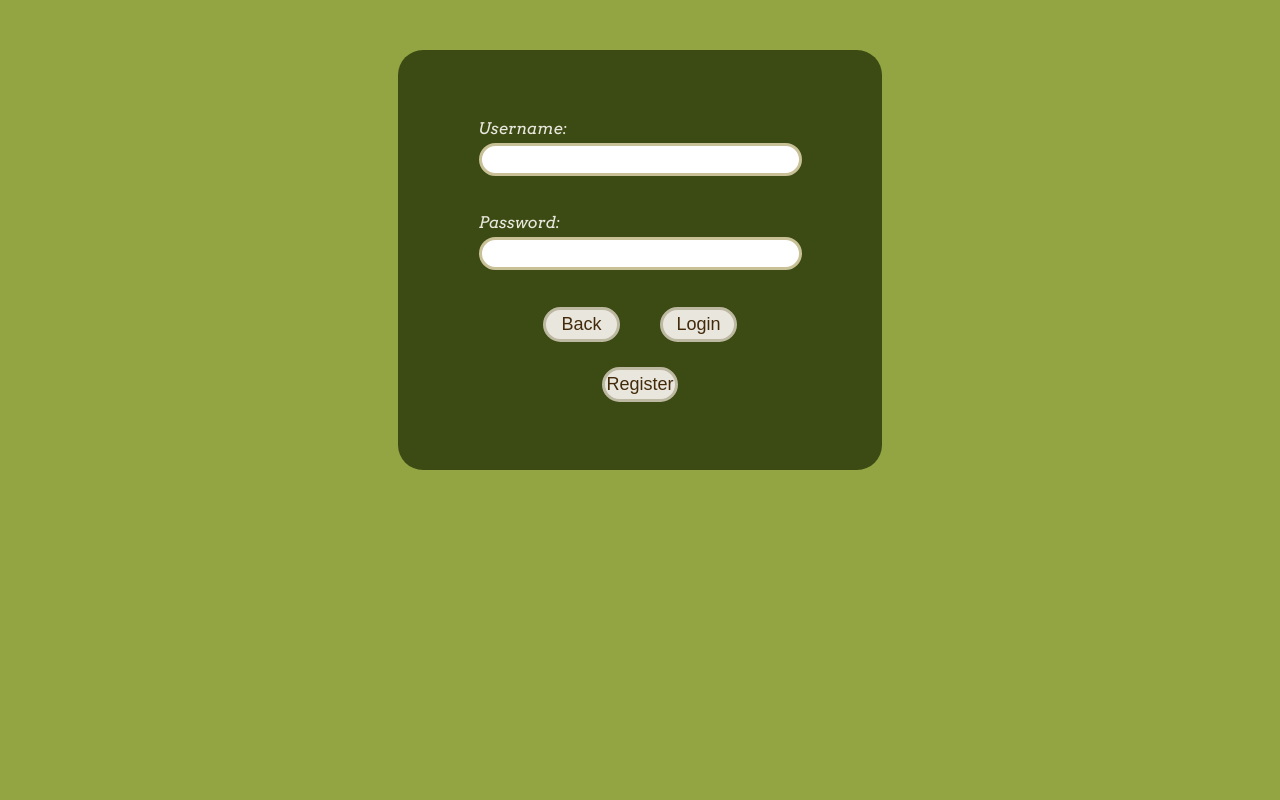
Test: Login Page User Flow › should not be able to create a new account if not all fields are filled in
This screenshot has width=1280, height=800.
Click the button "Register" at (641, 385), box [602,367,679,402]
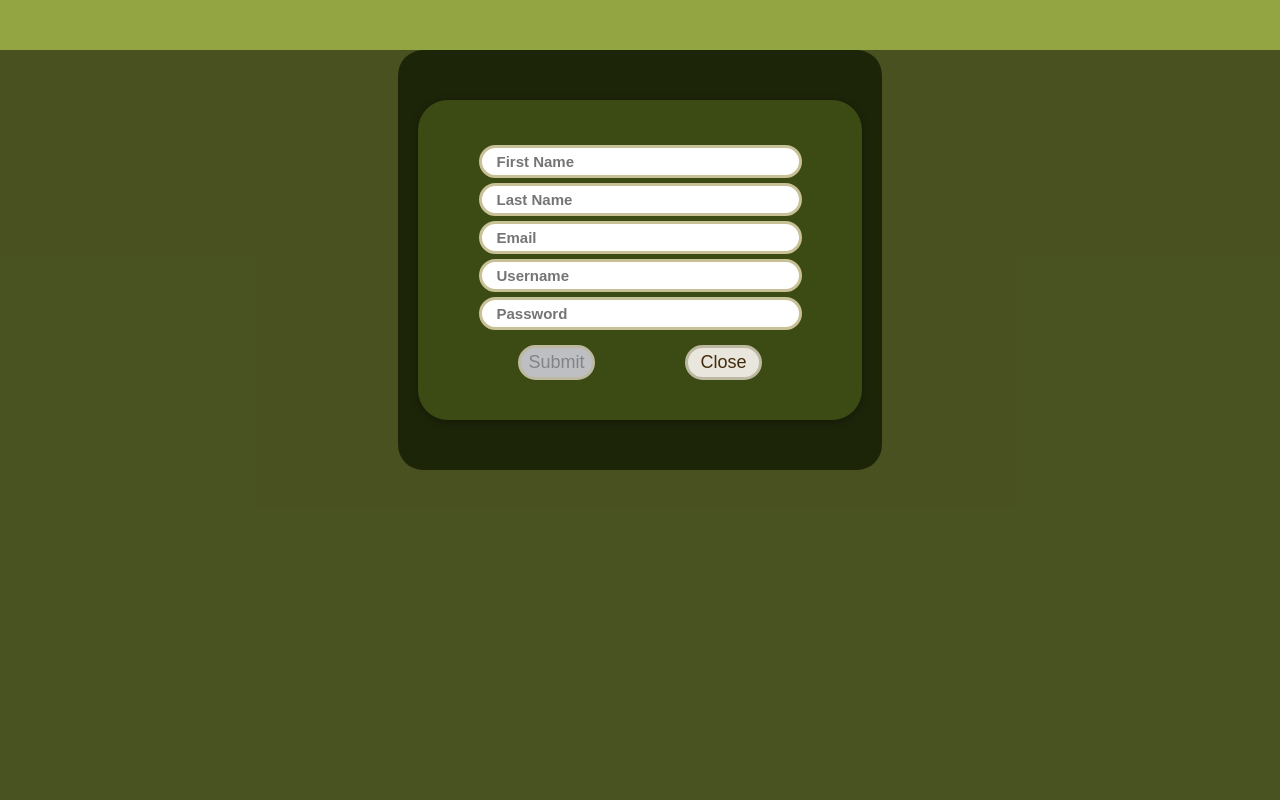
Now the submit button is disabled, box [518,345,595,380]
